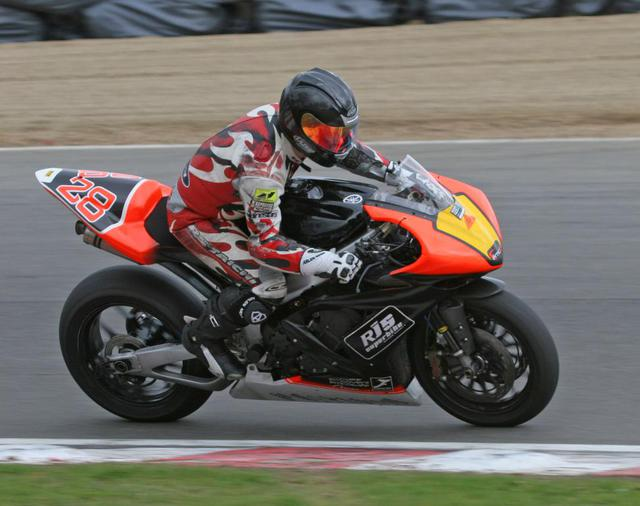helmet: (276, 72, 360, 165)
